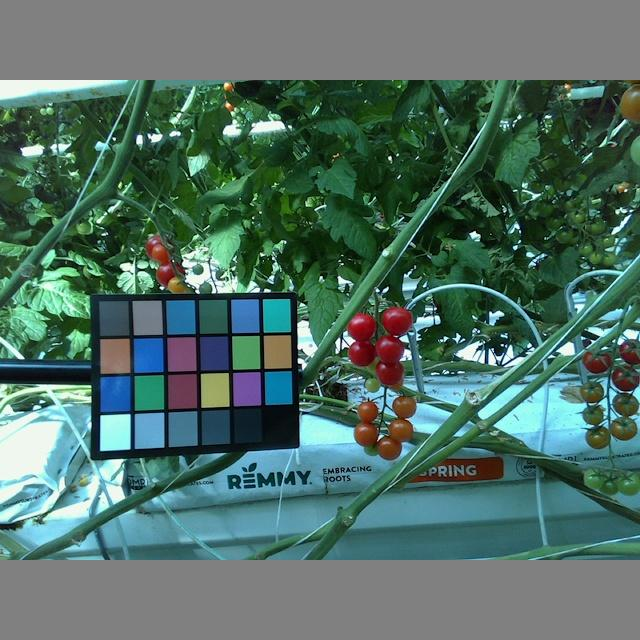green: (614, 471, 640, 496), (612, 416, 638, 440), (586, 423, 608, 450), (580, 379, 604, 402), (613, 394, 639, 415), (583, 464, 602, 490), (581, 406, 605, 424), (364, 376, 380, 394)
pink: (388, 419, 414, 444), (393, 394, 416, 419), (353, 423, 378, 446), (377, 436, 401, 459), (358, 401, 378, 423), (165, 276, 187, 294)
red: (382, 305, 413, 337), (154, 261, 186, 290), (346, 312, 377, 340), (374, 336, 404, 363), (609, 366, 640, 392), (349, 340, 377, 368), (582, 347, 611, 374), (375, 357, 402, 384), (619, 336, 640, 364), (152, 242, 170, 262)
